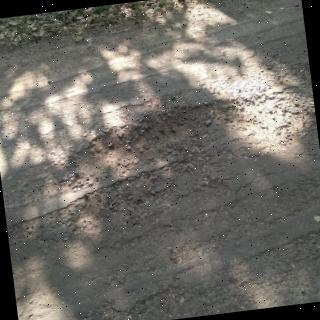pothole: (1, 57, 317, 251)
